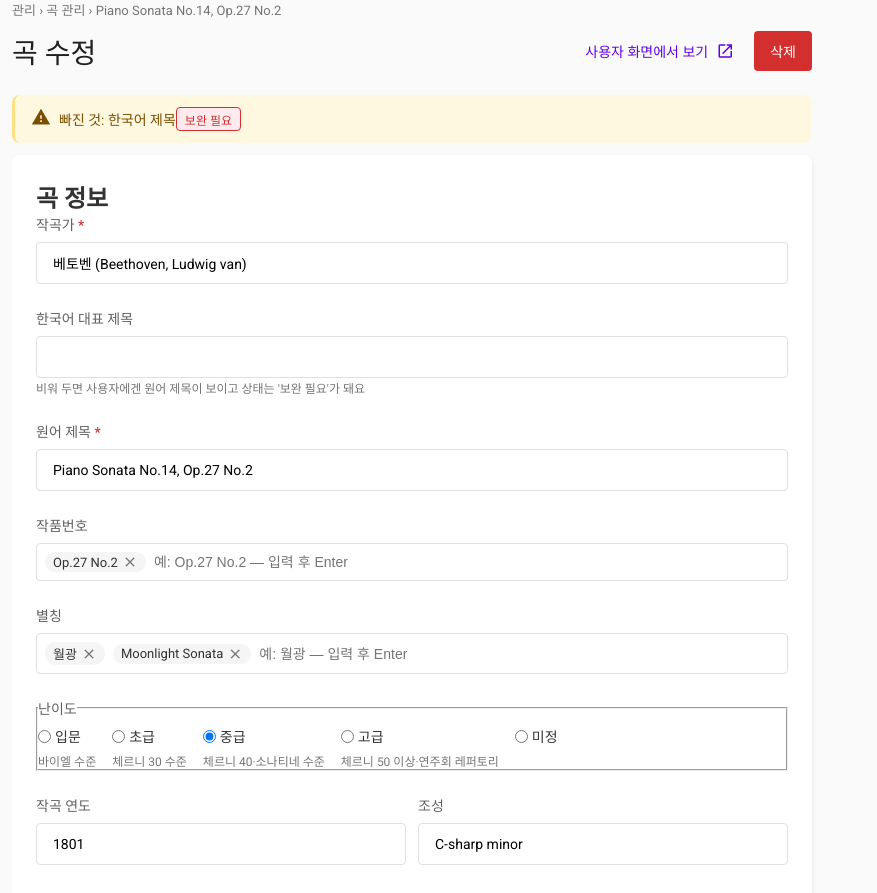
Scenario: WorkFormPage — 검증·저장 › 저장으로 보완 필요가 풀리면 '저장했어요 — 사용자 화면에서 다운로드가 열렸어요'
Check: the field labelled "원어 제목" holds "Piano Sonata No.14, Op.27 No.2", box [36,449,788,491]
Step 1. Type "월광 소나타" into the field labelled "한국어 대표 제목" → (412, 357), box [36,336,788,378]
(page scrolled)
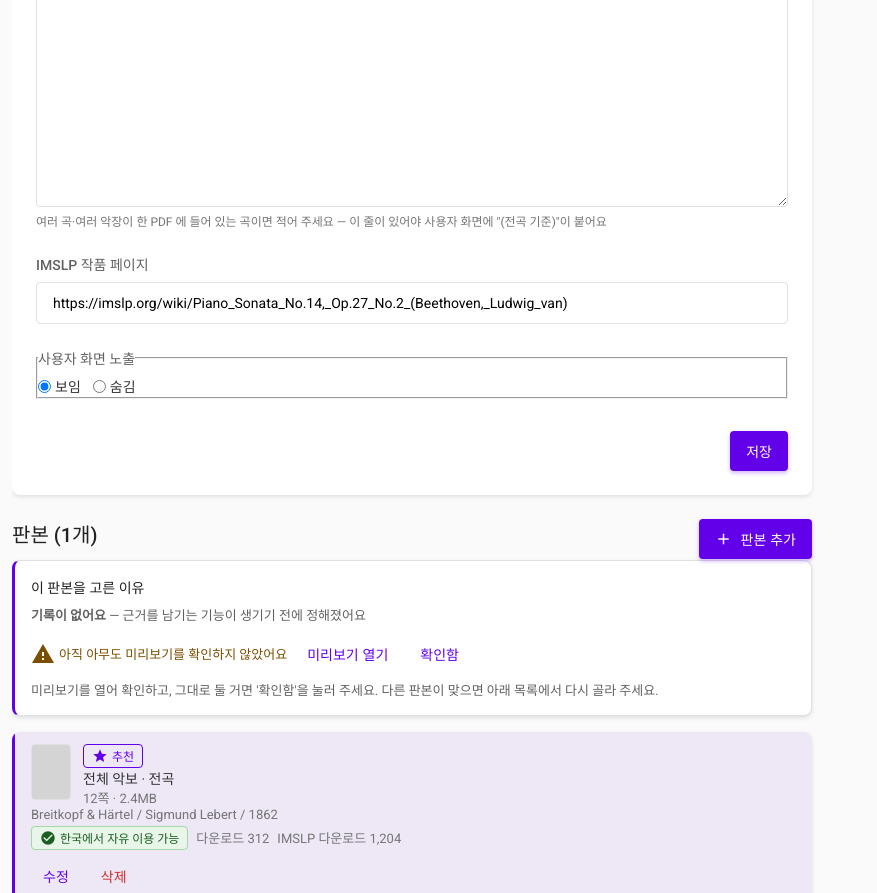
Step 2. Click the button "저장" → (759, 450), box [730,430,788,470]
(page scrolled)
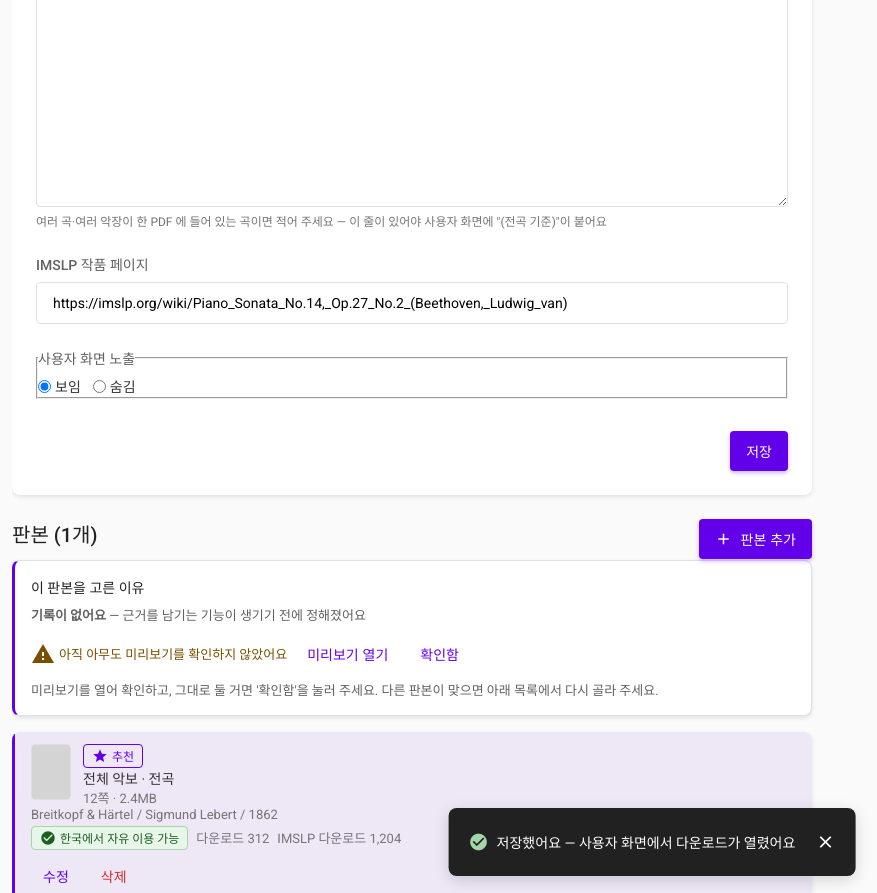
Check: the text "저장했어요 — 사용자 화면에서 다운로드가 열렸어요" is shown, box [497,832,795,852]
